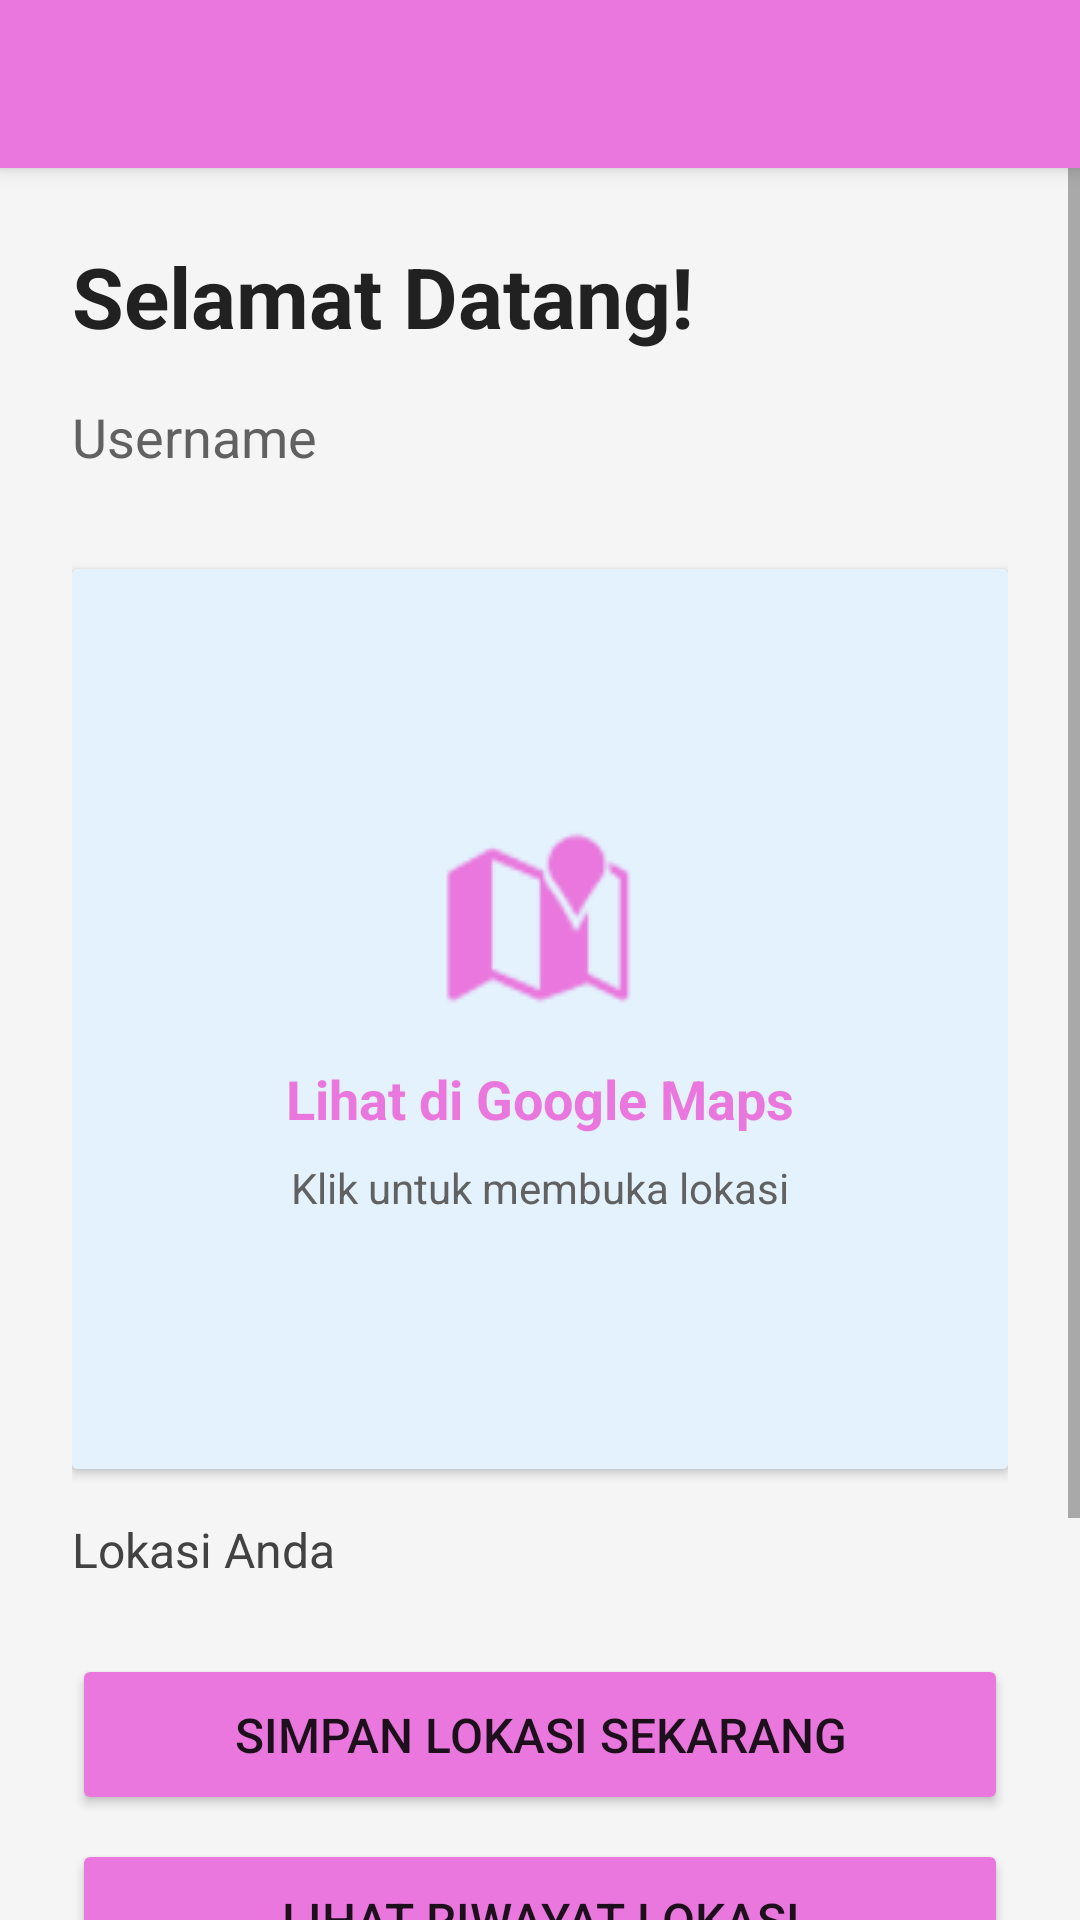

Named icons in this screenshot (1080px x 1920px) and their bounding boxes, (x1, y1, x2, y2):
map: (446, 834, 630, 1002)
